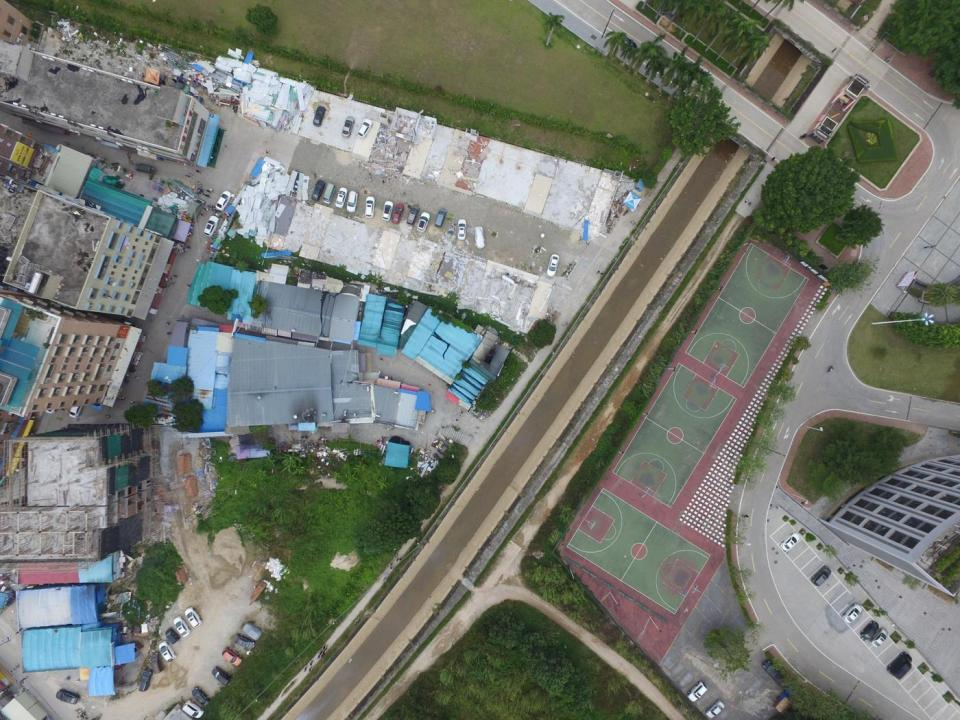car: (887, 650, 914, 681), (614, 30, 638, 53), (762, 660, 784, 685), (220, 645, 243, 667), (810, 565, 832, 587), (686, 681, 708, 702), (158, 640, 177, 664), (860, 620, 880, 642), (780, 532, 800, 552), (842, 602, 862, 622), (211, 666, 231, 686), (191, 686, 210, 707), (172, 614, 190, 636), (242, 623, 264, 641), (182, 700, 204, 718), (138, 667, 153, 693), (871, 627, 889, 648), (184, 607, 202, 628), (54, 690, 80, 704), (215, 190, 232, 211), (204, 215, 220, 237), (148, 651, 163, 674), (416, 209, 430, 233), (234, 635, 255, 651), (473, 225, 486, 250), (706, 700, 724, 718), (68, 398, 84, 418), (546, 254, 559, 278), (312, 105, 326, 127), (311, 178, 325, 200), (334, 187, 348, 209), (357, 118, 372, 138), (456, 218, 469, 240), (164, 626, 179, 645), (346, 191, 358, 213), (342, 116, 354, 138), (44, 394, 57, 414), (391, 204, 404, 224), (364, 196, 375, 218), (382, 201, 394, 221), (135, 163, 154, 173)
truck: (772, 686, 798, 714), (323, 184, 337, 204)
van: (406, 204, 420, 226), (433, 208, 448, 228)
